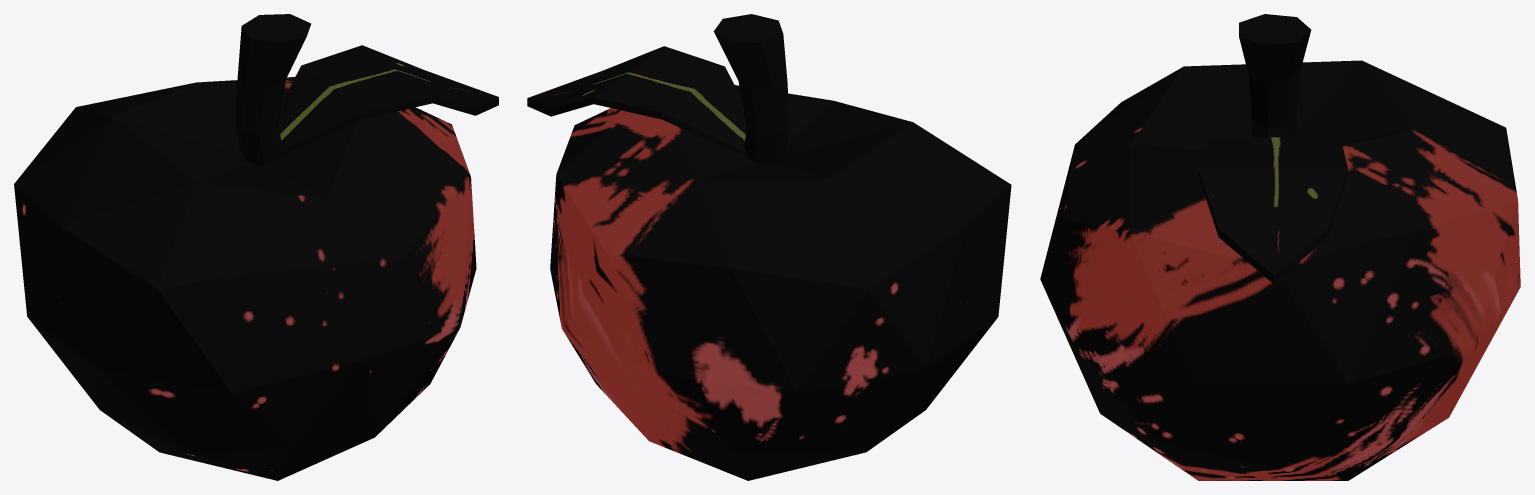
The model's file is apple.glb 11-14-26-084.glb.
The picture shows the model from 3 angles, left to right: view 1: azimuth 30°, elevation 25°; view 2: azimuth 150°, elevation 25°; view 3: azimuth 270°, elevation 25°; orthographic projection. The views are drawn at different scales.
Parts seen in each view (by area): view 1: chair; view 2: chair; view 3: chair.
Boxes of the visible parts, box(x1,y1,x2,y2) form: chair: box(14, 14, 498, 480); chair: box(527, 14, 1011, 480); chair: box(1040, 14, 1520, 480).
Size of the model in its own units: 1.45 by 1.26 by 1.29.
